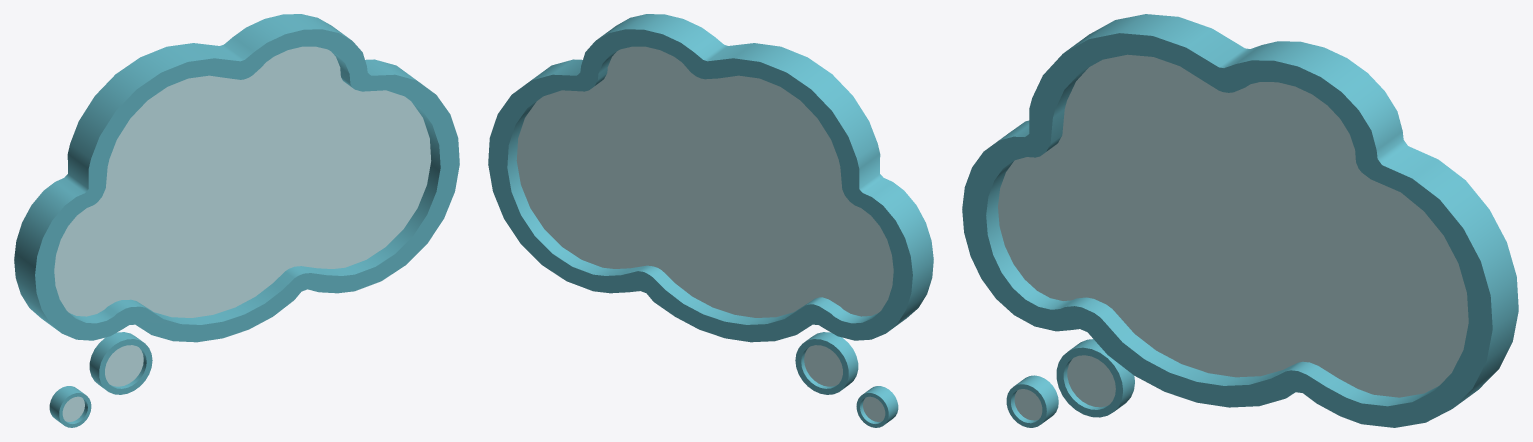
Rendered from speech bubble_01.FBX.
3 views of the same model, side by side, from view 1: azimuth 30°, elevation 25°; view 2: azimuth 150°, elevation 25°; view 3: azimuth 330°, elevation 25° (orthographic). The views are drawn at different scales.
Visible parts, largest first — view 1: Cylinder002; view 2: Cylinder002; view 3: Cylinder002.
Boxes of the visible parts, x1,y1,x2,y2 form: Cylinder002: (14,14,459,427); Cylinder002: (488,14,933,427); Cylinder002: (962,14,1518,427).
Size of the model in its own units: 44.6 by 34.86 by 3.8.
